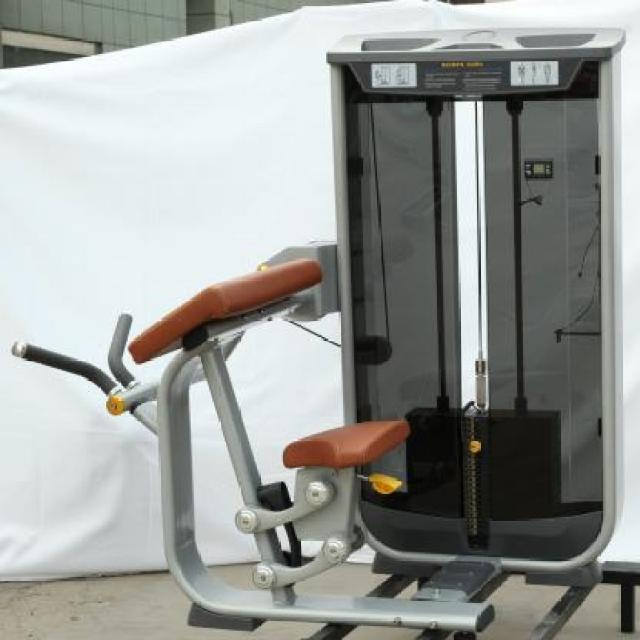arm curl machine: (12, 257, 640, 640)
